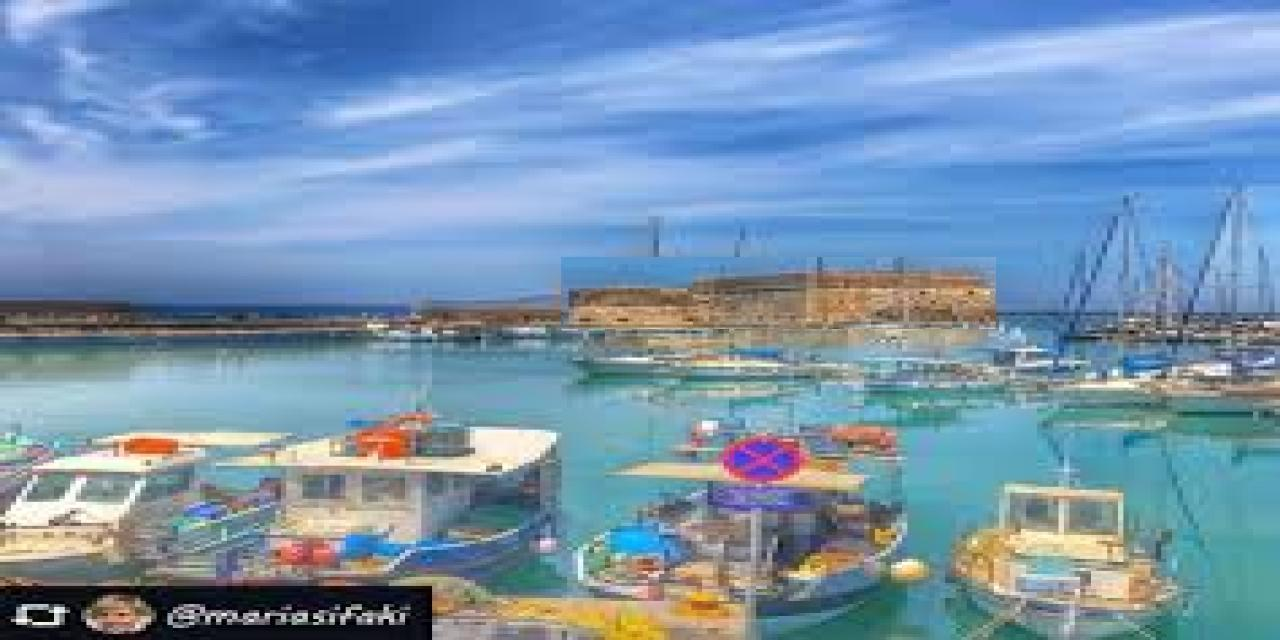Kules: (562, 258, 997, 330)
